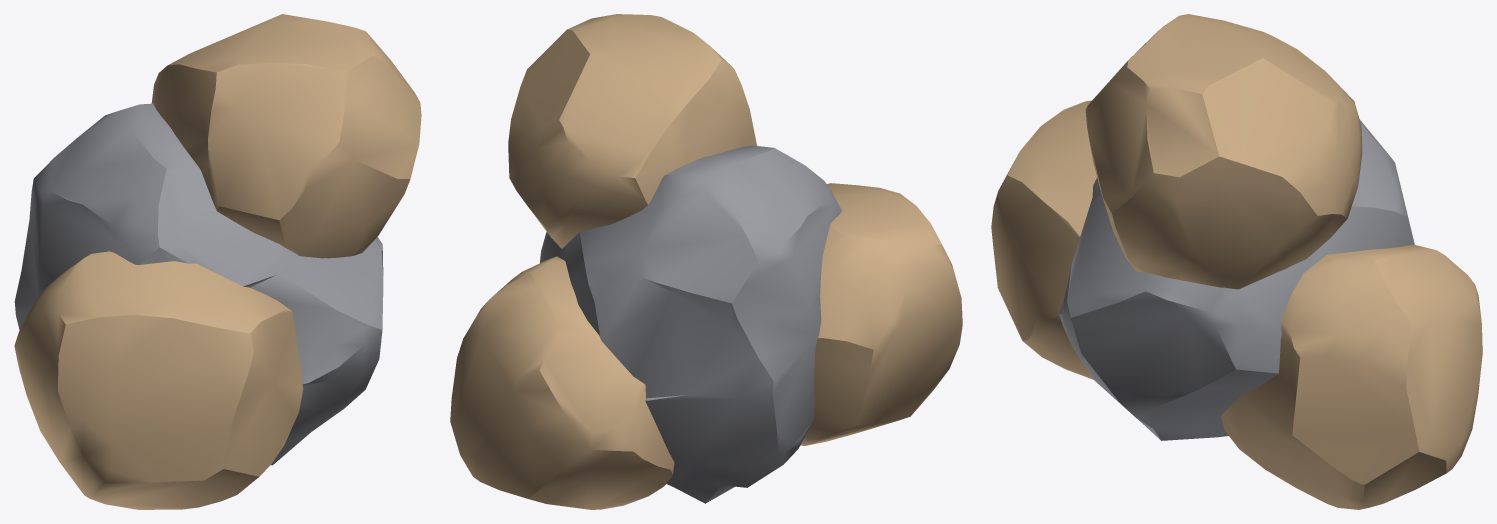
Rendered from ui-gold.glb.
3 renders of one model, left to right at view 1: azimuth 30°, elevation 25°; view 2: azimuth 150°, elevation 25°; view 3: azimuth 270°, elevation 25°, orthographic. The views are drawn at different scales.
Parts seen in each view (by area): view 1: UI_Gold; view 2: UI_Gold; view 3: UI_Gold.
Part boxes in pixels (box(x1,y1,x2,y2)): UI_Gold: box(14, 14, 421, 509); UI_Gold: box(450, 14, 962, 509); UI_Gold: box(991, 14, 1482, 509).
Bounding box in the file's own units: 0.3996 × 0.4168 × 0.4139.
1 material, 1 textured.
